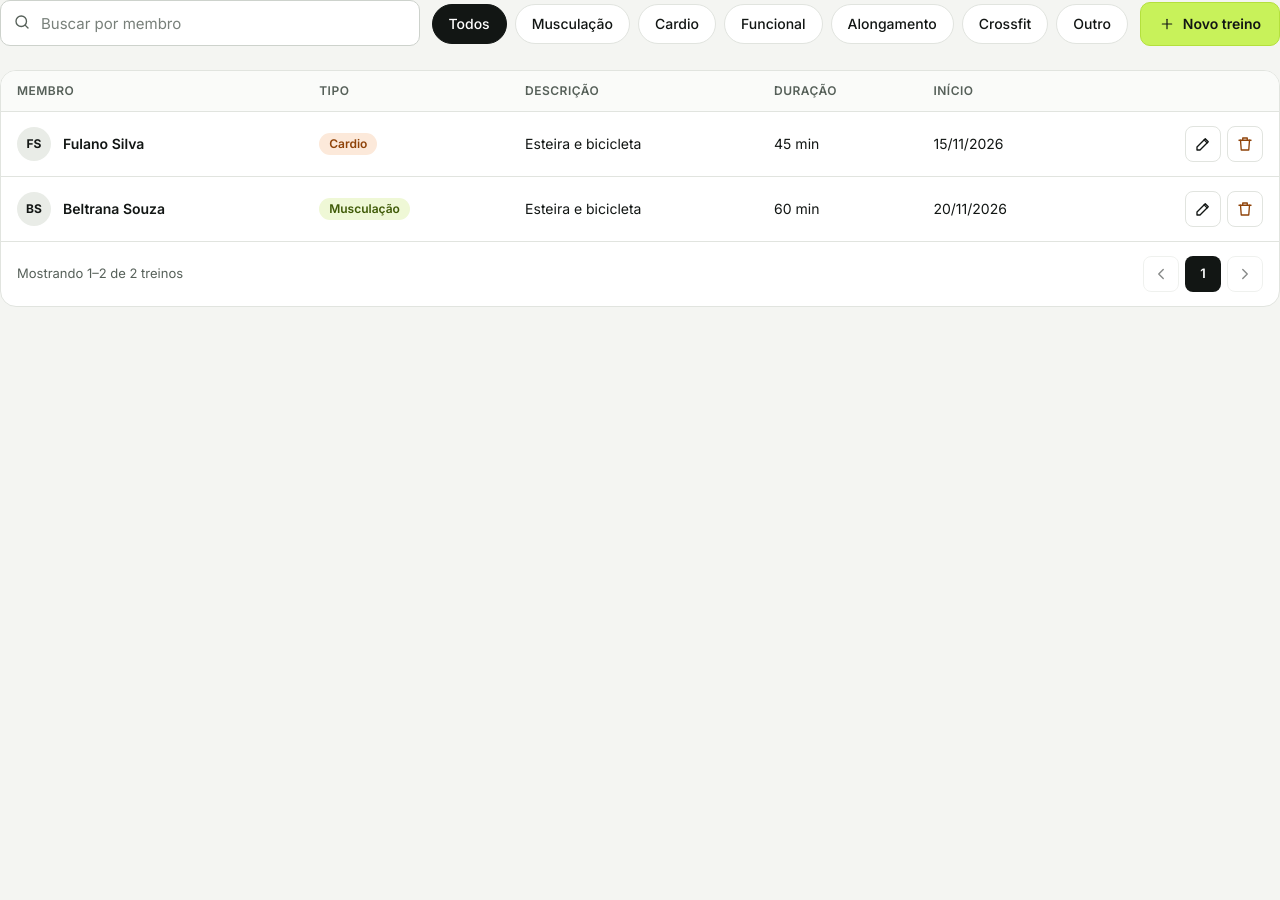
Test: TelaTreinos › excluir › Escape fecha a confirmação sem excluir
Expected: the text "Fulano Silva" is shown, [63,134,144,154]
Click the button named "Excluir treino Cardio de Fulano Silva com início em 15/11/2026" at [1245, 144], box [1227,126,1263,162]
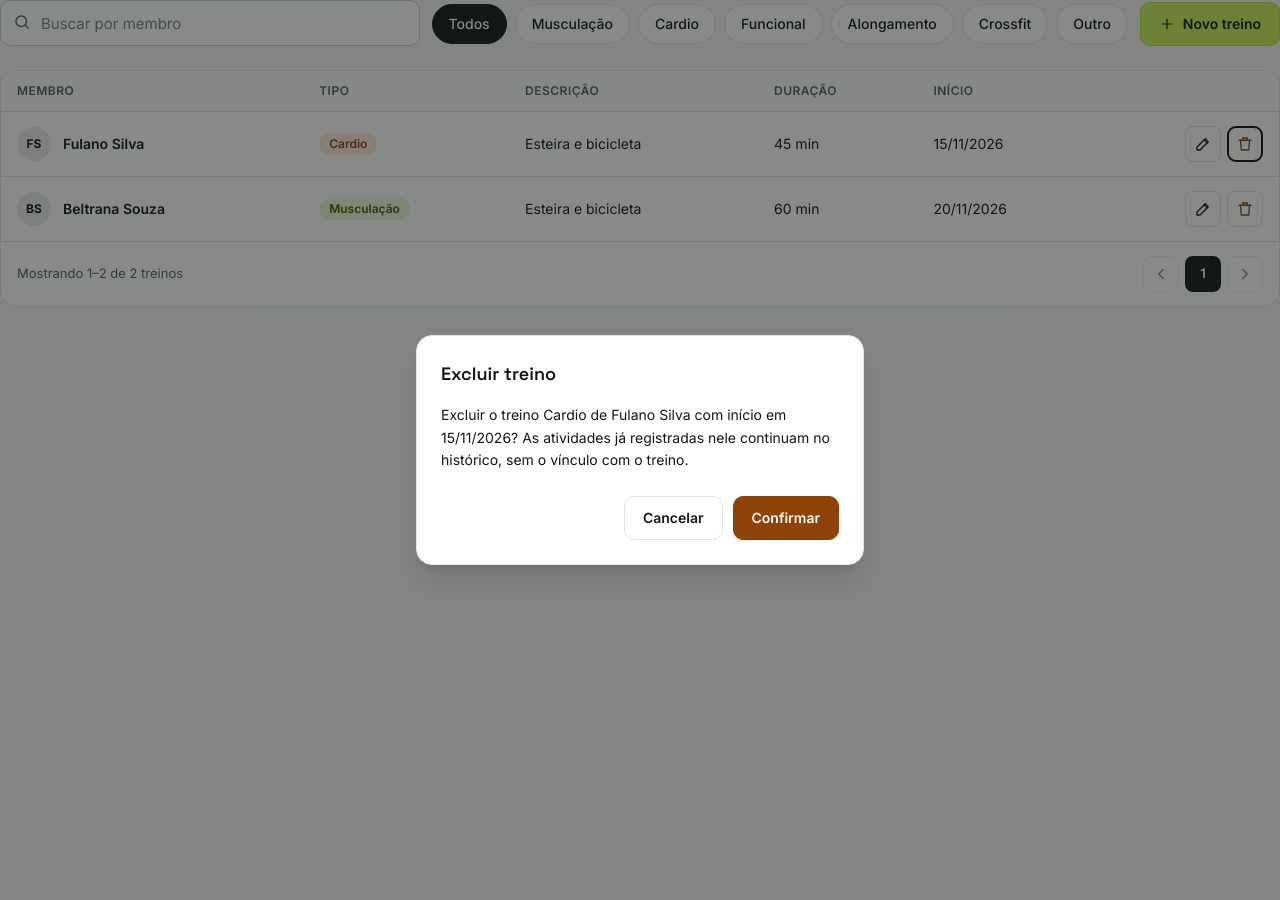
Press Escape
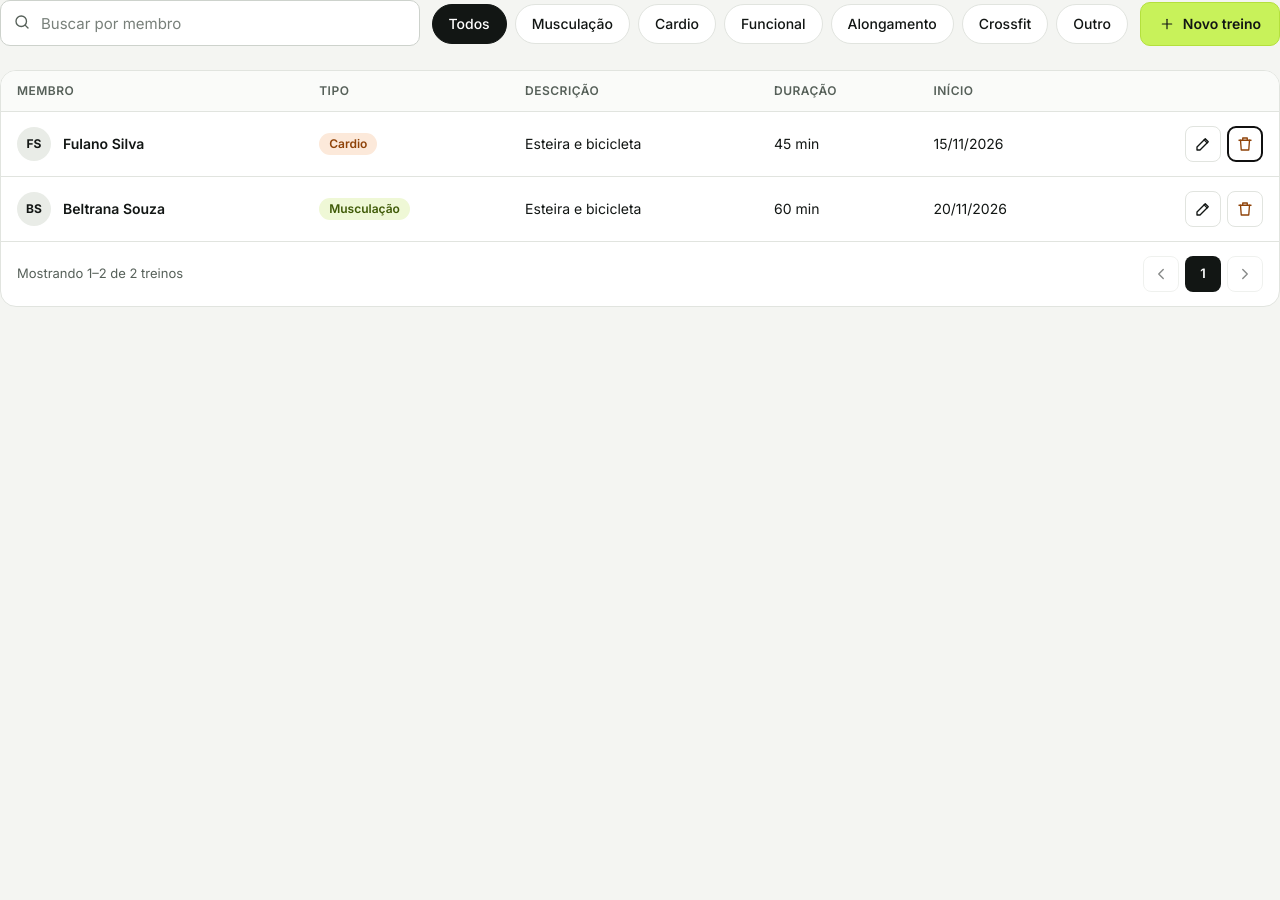
Now the dialog is gone
